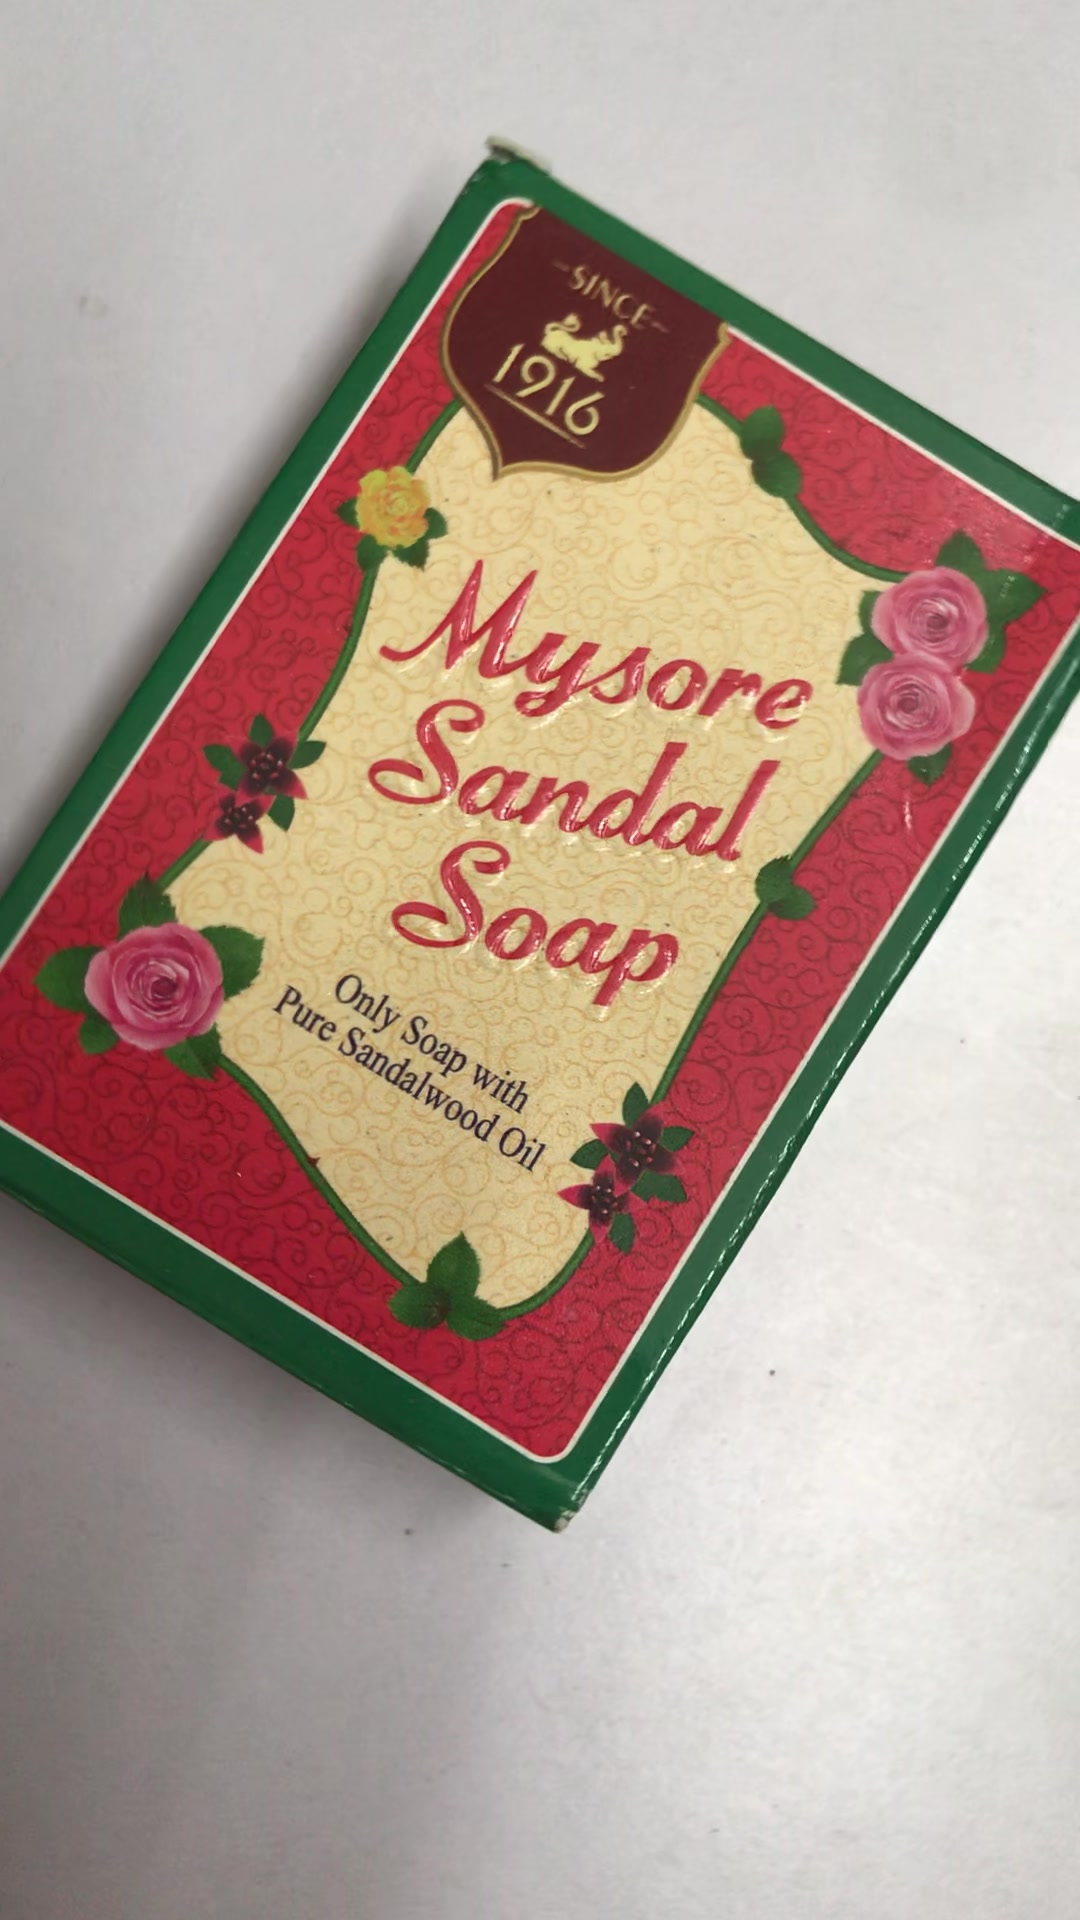mysore sandal soap: (9, 144, 1080, 1531)
